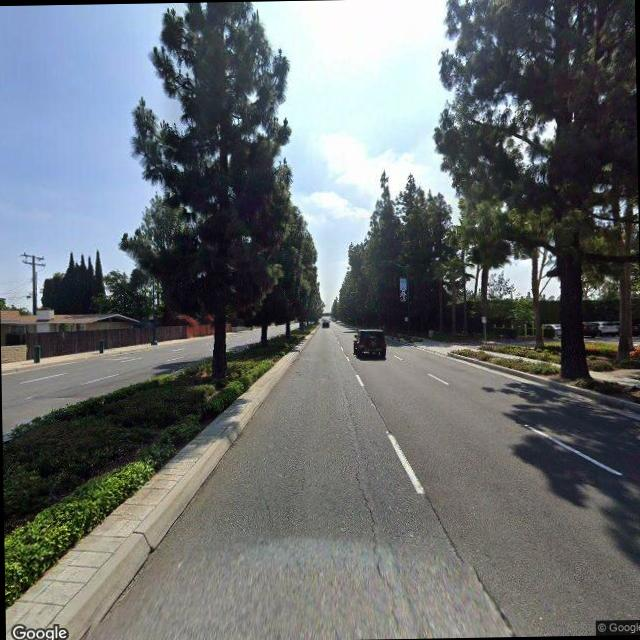pothole: (346, 451, 399, 634)
